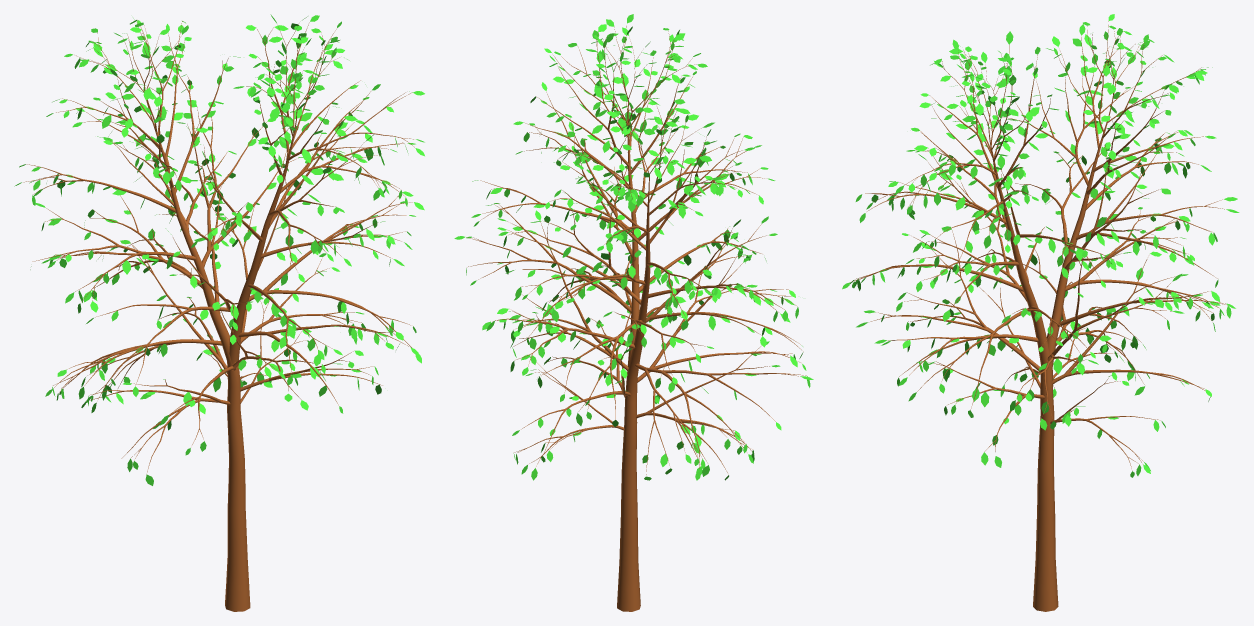
File: tree.glb
The picture shows the model from 3 angles, left to right: view 1: azimuth 30°, elevation 25°; view 2: azimuth 150°, elevation 25°; view 3: azimuth 270°, elevation 25°; orthographic projection. The views are drawn at different scales.
Parts seen in each view (by area): view 1: tree.001, leaves; view 2: tree.001, leaves; view 3: tree.001, leaves.
Boxes of the visible parts, left/top/right/bottom form: tree.001: left=23, top=21, right=414, bottom=611; leaves: left=14, top=14, right=424, bottom=485; tree.001: left=467, top=26, right=806, bottom=611; leaves: left=454, top=14, right=813, bottom=480; tree.001: left=851, top=21, right=1227, bottom=611; leaves: left=842, top=14, right=1239, bottom=477.
Bounding box in the file's own units: 10.32 × 16.22 × 10.04.
